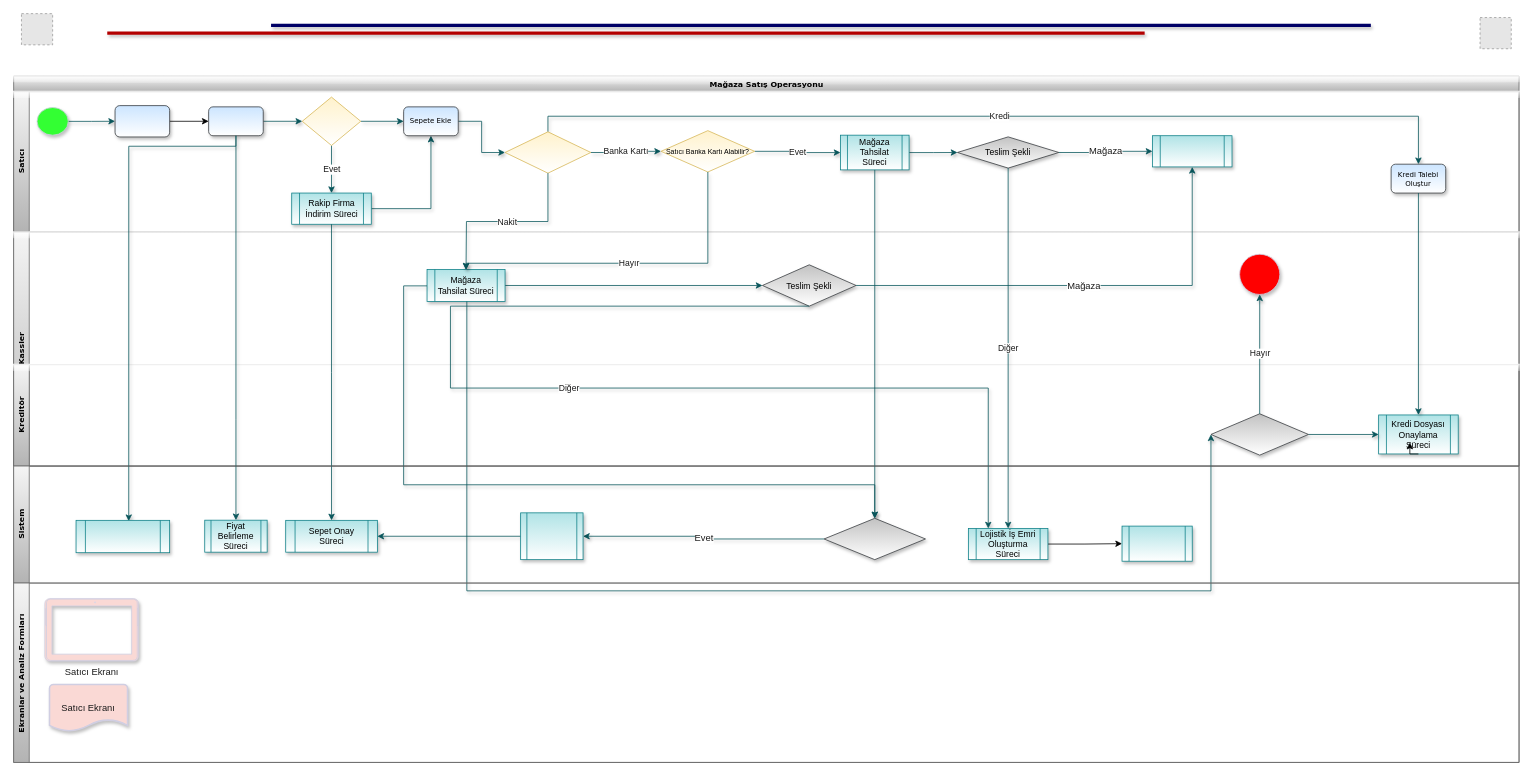
Image size: 1533x776. Some labels were removed from this diagram. Grey dashed boxes stand in for pictures. Each missing label, with the centre of its shape:
Beğendği Ürün(ler) Sepete Eklenir: point 236,122
Depo Belirleme Süreci: point 123,537
Dosya Onaylandı: point 1260,435
İndirim Talebi Var: point 875,539
İndirim ve Fiyat Değişikliği Süreci: point 552,537
Mağaza Teslim Süreci: point 1193,152
Müşteri Karşılanır: point 142,122
Nasıl Ödeyecek?: point 547,152
Rakip Firma İndirimi?: point 331,120
Rezervasyon Süreci: point 1157,544
